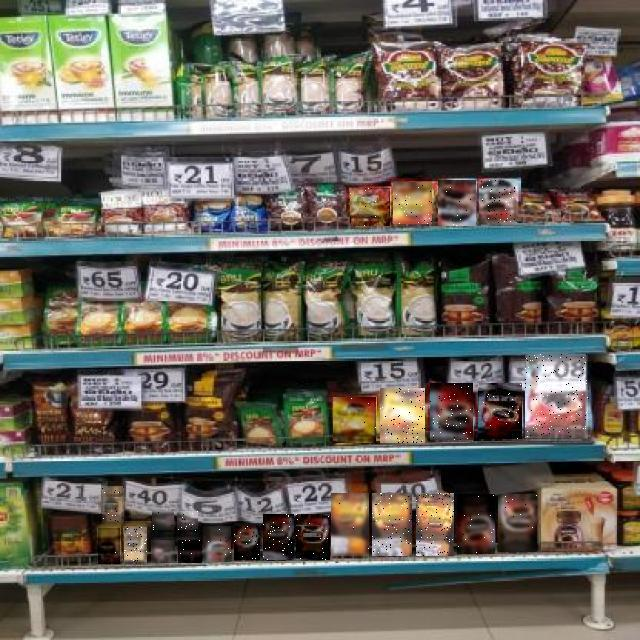Coffee: (526, 354, 590, 438), (373, 493, 413, 556), (430, 384, 473, 442), (380, 388, 425, 443), (478, 383, 522, 439), (331, 494, 369, 558), (417, 493, 455, 556), (457, 494, 495, 554), (498, 494, 537, 552), (333, 397, 376, 443), (438, 180, 476, 226), (480, 180, 518, 224), (393, 182, 432, 224), (296, 514, 330, 560), (350, 188, 390, 226), (263, 514, 294, 560), (203, 526, 231, 562), (234, 526, 260, 560), (124, 528, 147, 564), (102, 486, 124, 522), (98, 528, 120, 564), (178, 540, 202, 563), (151, 540, 175, 563), (152, 512, 174, 532), (177, 512, 198, 532)
